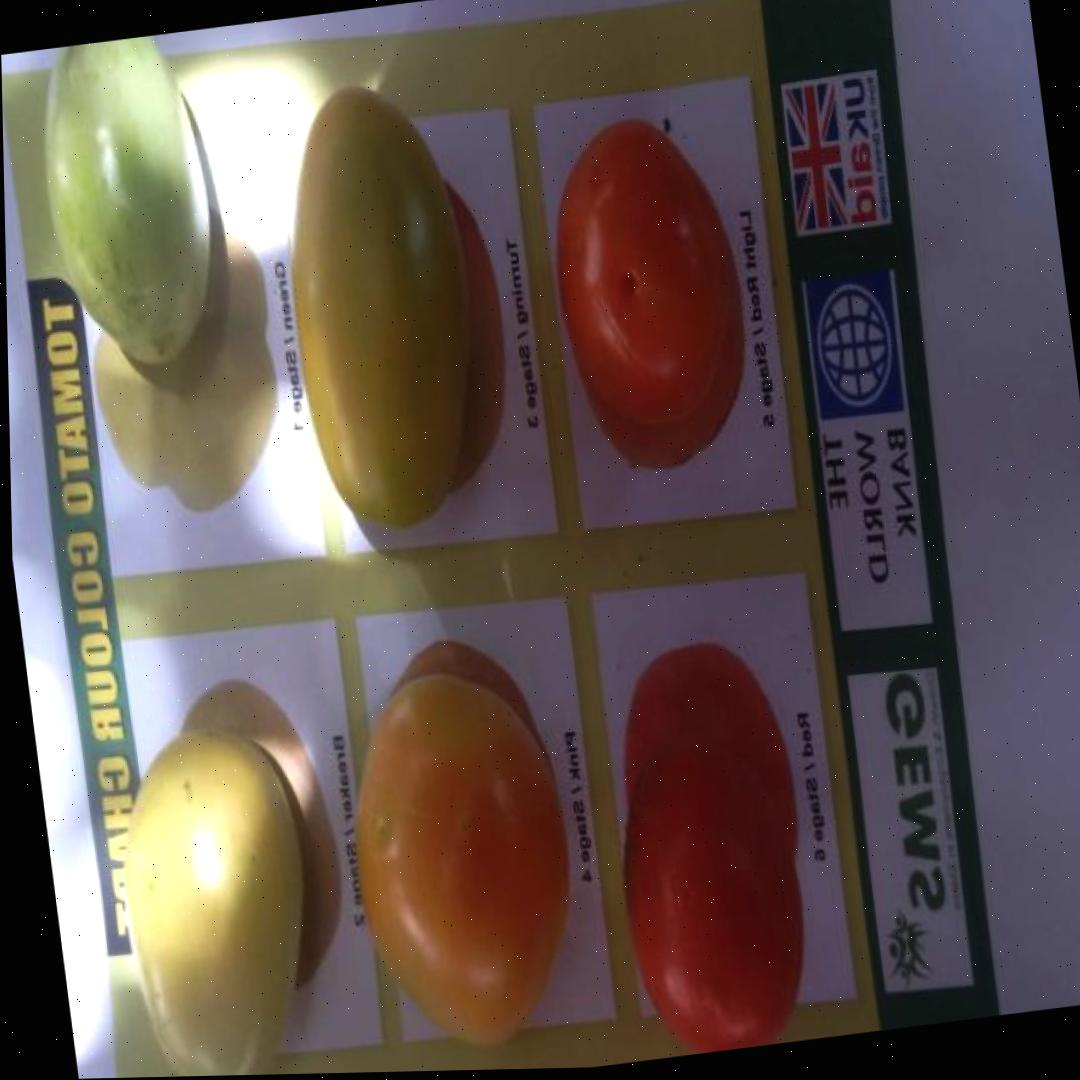matang: (602, 711, 821, 1061), (534, 106, 750, 441)
mentah: (100, 717, 333, 1078), (23, 30, 230, 382)
setengah_matang: (260, 64, 500, 540), (328, 656, 593, 1066)
